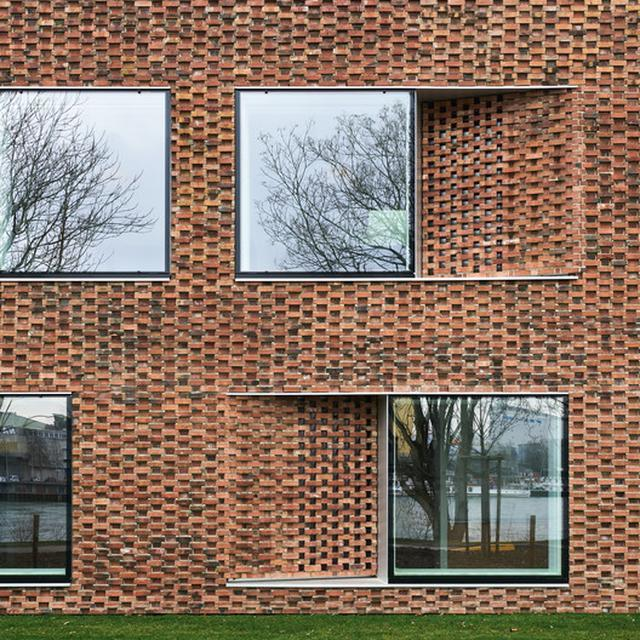building: (1, 0, 640, 612)
